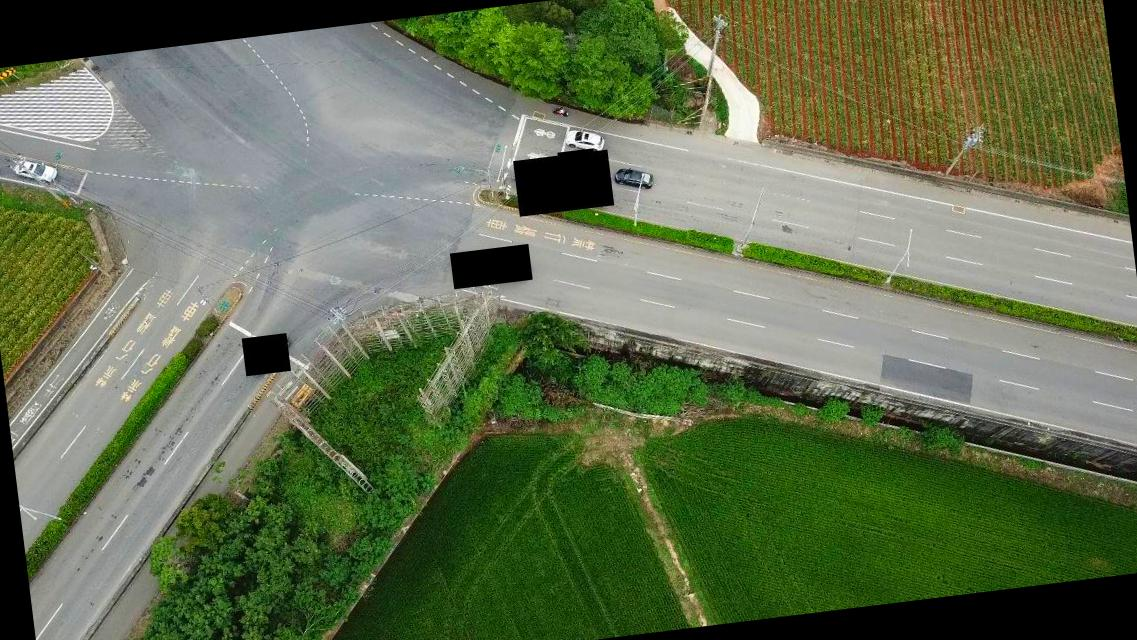vehicle: (11, 154, 56, 186), (562, 125, 604, 156), (612, 163, 652, 192)
